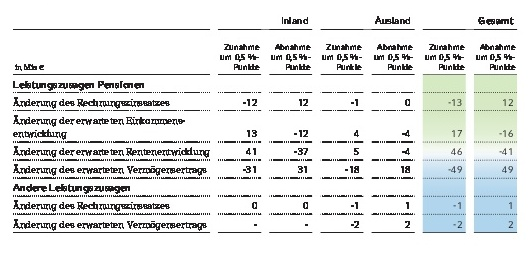table: (0, 0, 532, 254)
